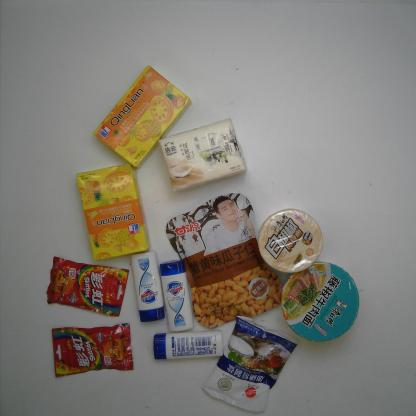Candy: (46, 257, 130, 317), (52, 323, 134, 377)
Dessert: (93, 65, 193, 169), (75, 162, 152, 261)
Dried Fruit: (166, 192, 284, 326)
Instant Noodles: (280, 262, 360, 342), (258, 209, 323, 273)
Personal Hygiene: (159, 259, 195, 332), (131, 249, 166, 323), (153, 330, 224, 360)
Seasoner: (202, 315, 299, 415)
Tissue: (159, 117, 248, 193)
